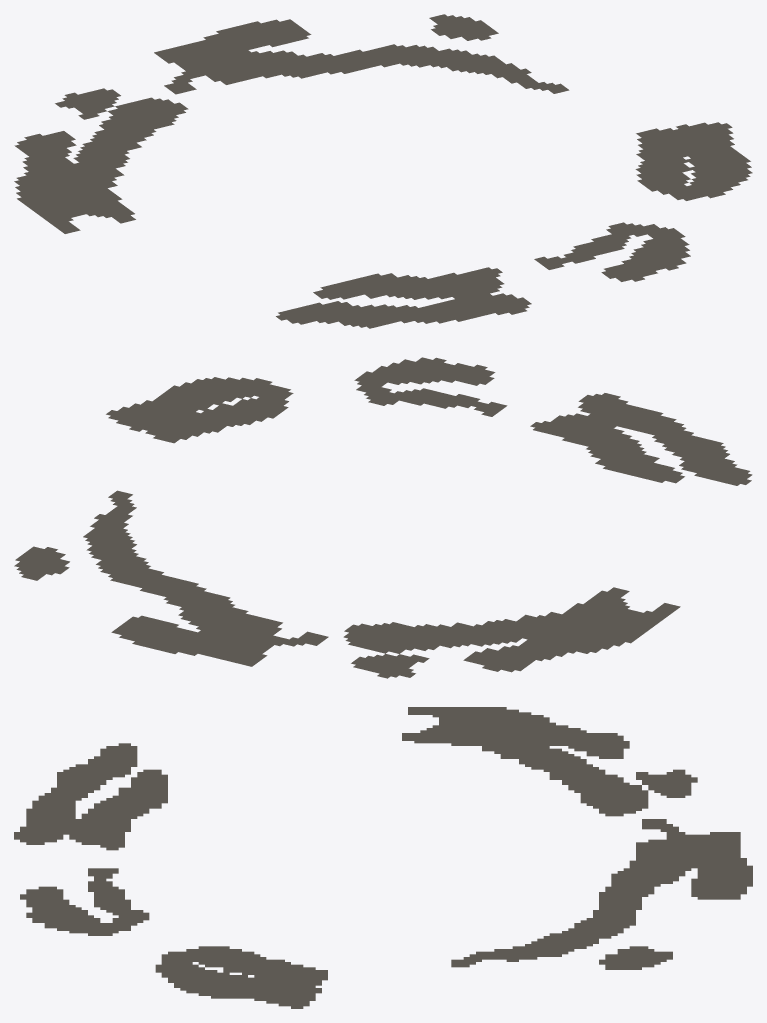
Rendered from Isl-atoll3-NoBuildArea.fbx.
The picture shows the model from 3 angles, top to bottom: view 1: azimuth 30°, elevation 25°; view 2: azimuth 150°, elevation 25°; view 3: azimuth 270°, elevation 25°; orthographic projection. The views are drawn at different scales.
Parts seen in each view (by area): view 1: Isl-atoll3-NoBuildArea; view 2: Isl-atoll3-NoBuildArea; view 3: Isl-atoll3-NoBuildArea.
Boxes of the visible parts, x1,y1,x2,y2 form: Isl-atoll3-NoBuildArea: (14, 14, 752, 328); Isl-atoll3-NoBuildArea: (14, 357, 752, 678); Isl-atoll3-NoBuildArea: (14, 707, 752, 1008).
Bounding box in the file's own units: 116 × 0 × 120.
